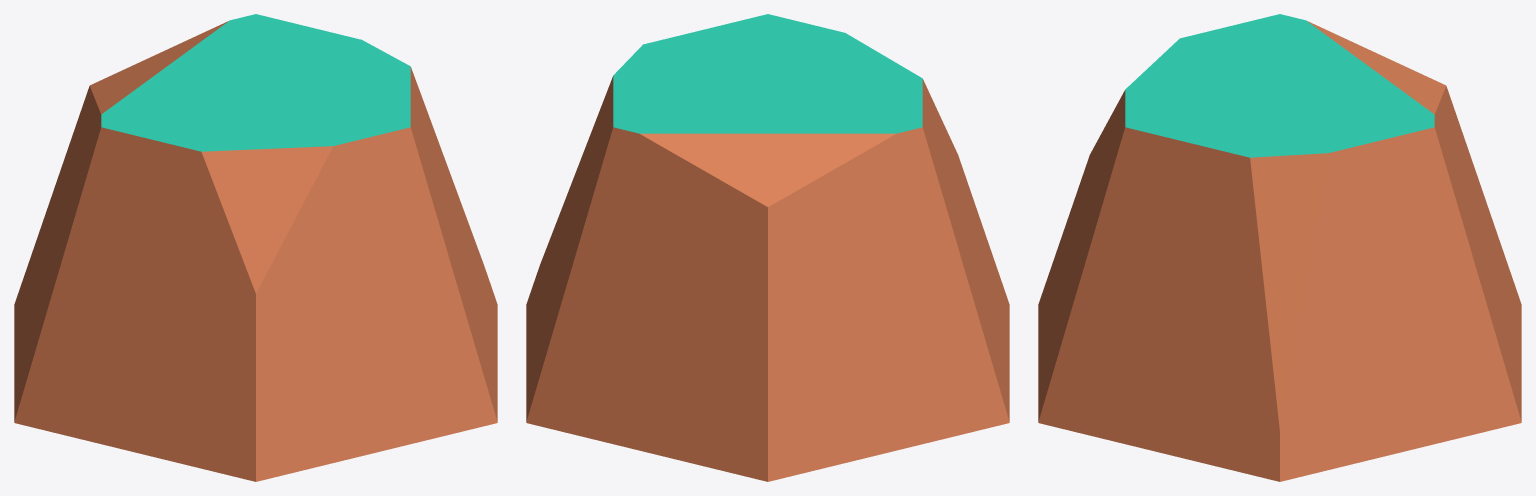
The model's file is rock_smallD.dae.
3 views of the same model, side by side, from view 1: azimuth 30°, elevation 25°; view 2: azimuth 150°, elevation 25°; view 3: azimuth 270°, elevation 25° (orthographic).
Visible parts, largest first — view 1: rock_smallD; view 2: rock_smallD; view 3: rock_smallD.
Part boxes in pixels (bbox=[...]): rock_smallD: bbox=[14, 14, 497, 481]; rock_smallD: bbox=[526, 14, 1009, 481]; rock_smallD: bbox=[1038, 14, 1521, 481].
Size of the model in its own units: 0.4257 by 0.2309 by 0.3687.
